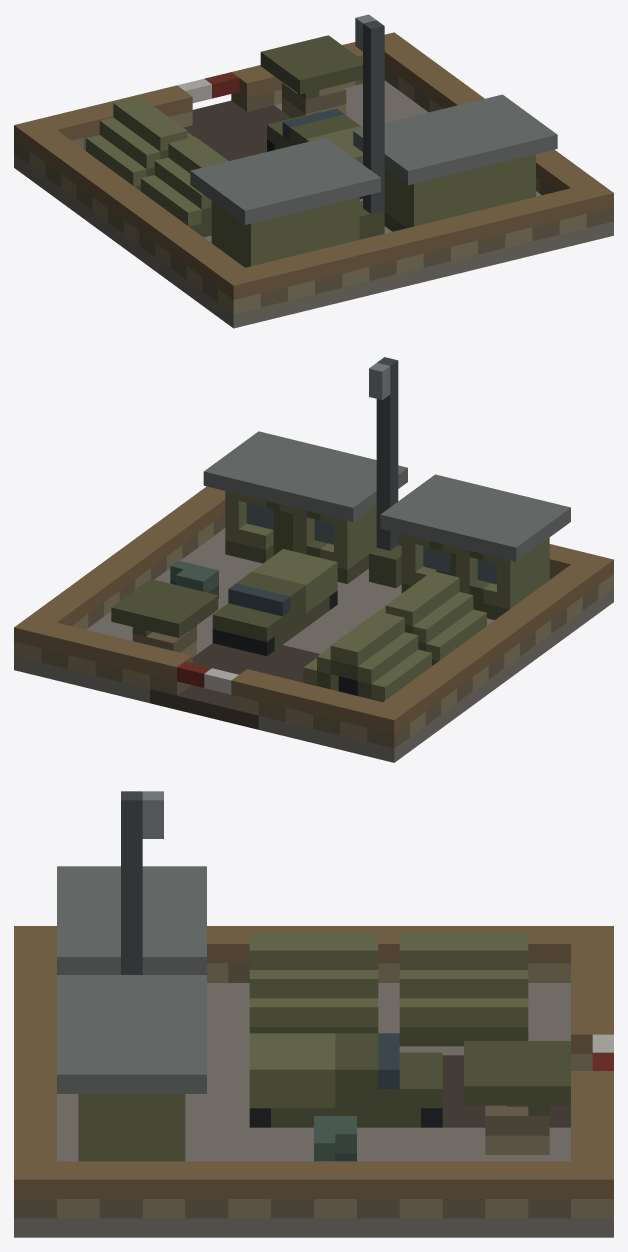
File: Claude_military_outpost.glb
3 views of the same model, one above another, from view 1: azimuth 30°, elevation 25°; view 2: azimuth 150°, elevation 25°; view 3: azimuth 270°, elevation 25° (orthographic). The views are drawn at different scales.
Parts seen in each view (by area): view 1: Claude_military_outpost; view 2: Claude_military_outpost; view 3: Claude_military_outpost.
Part boxes in pixels (x1,y1,x2,y2): Claude_military_outpost: [14, 14, 613, 328]; Claude_military_outpost: [14, 357, 613, 762]; Claude_military_outpost: [14, 791, 613, 1237].
Size of the model in its own units: 14 by 8 by 14.
